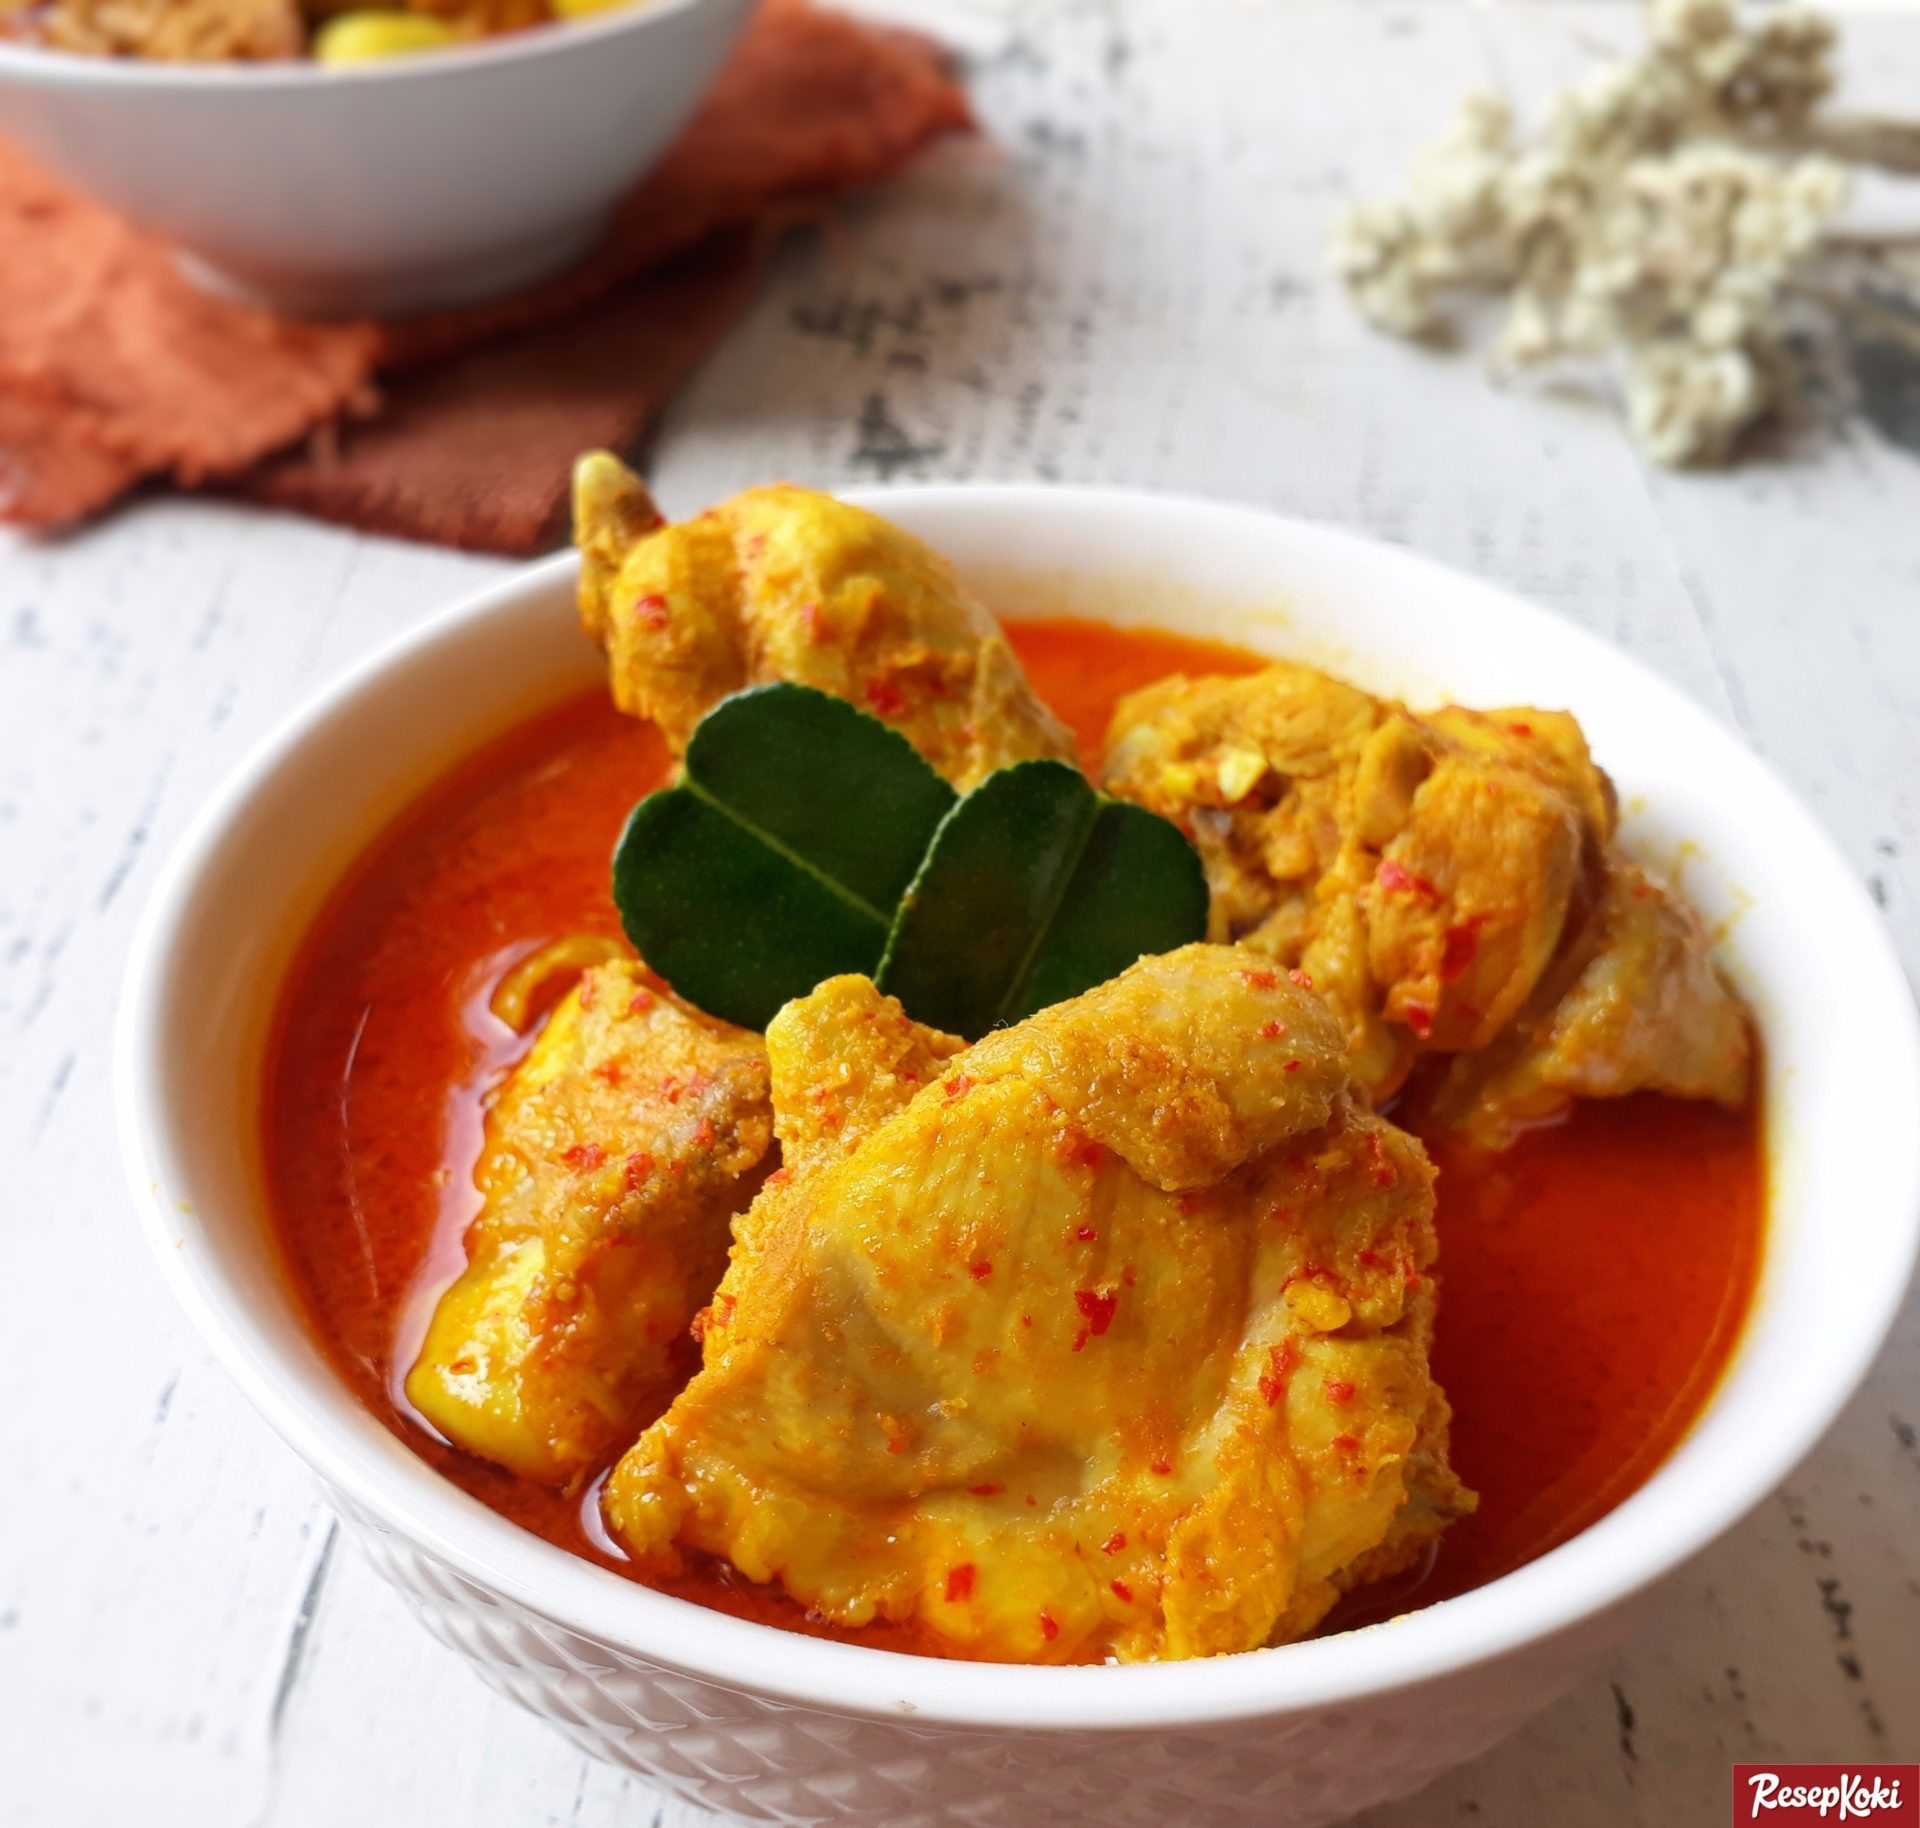gulai_ayam: (286, 439, 1841, 1609)
